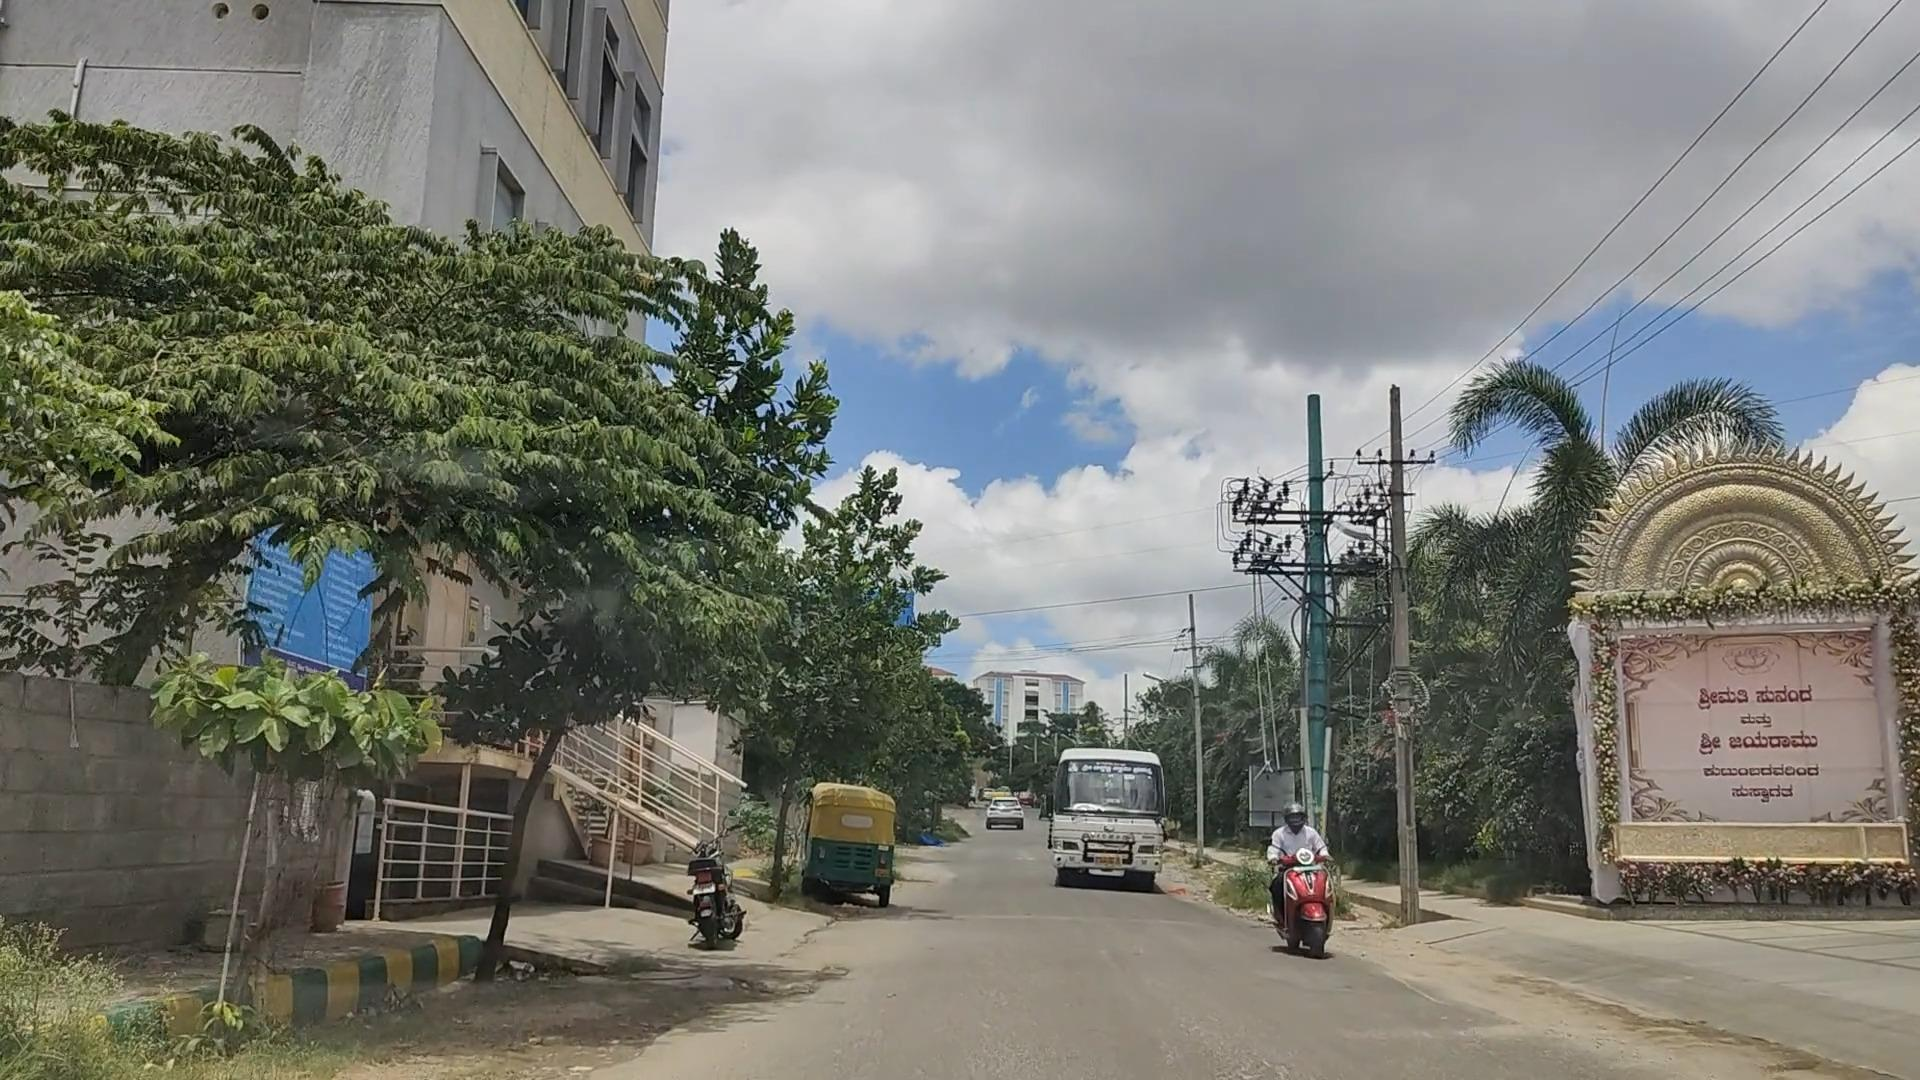HMV: (1038, 733, 1178, 915)
RoadDamages: (599, 960, 799, 1019)
